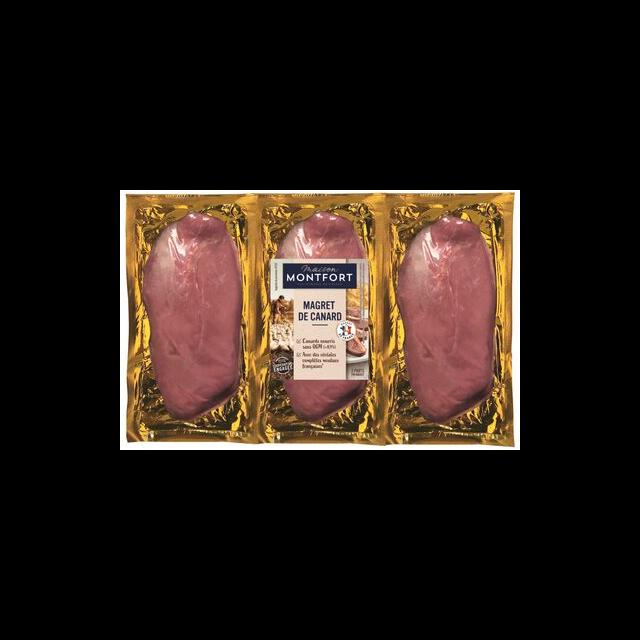beef: (142, 212, 242, 420), (396, 218, 496, 422), (278, 215, 365, 423)
